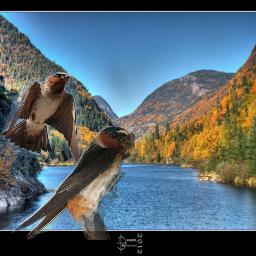Swallow: (12, 126, 135, 240), (2, 72, 82, 172)
